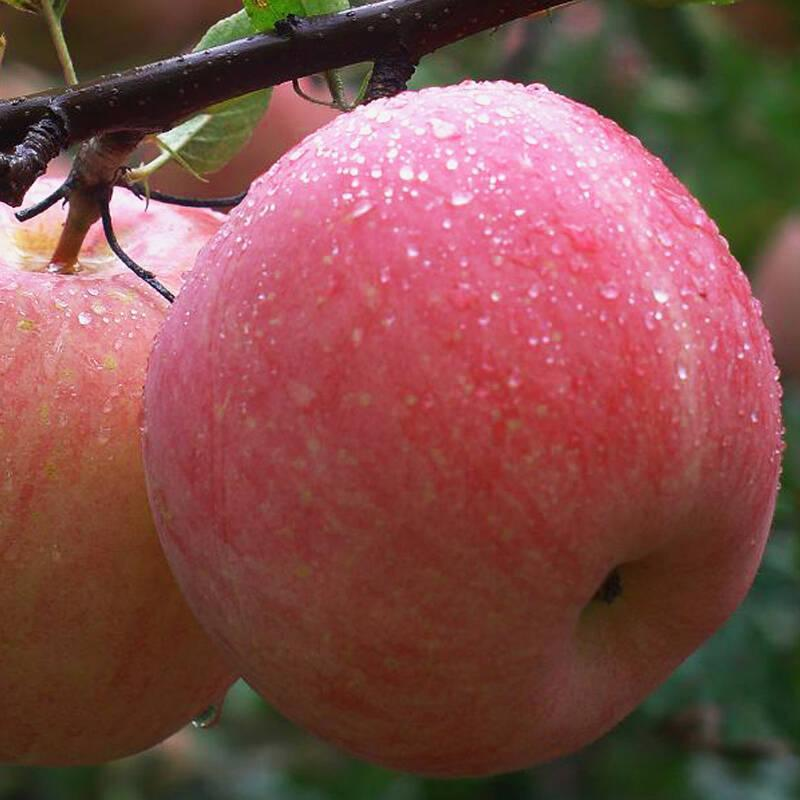apple: (124, 77, 781, 781)
